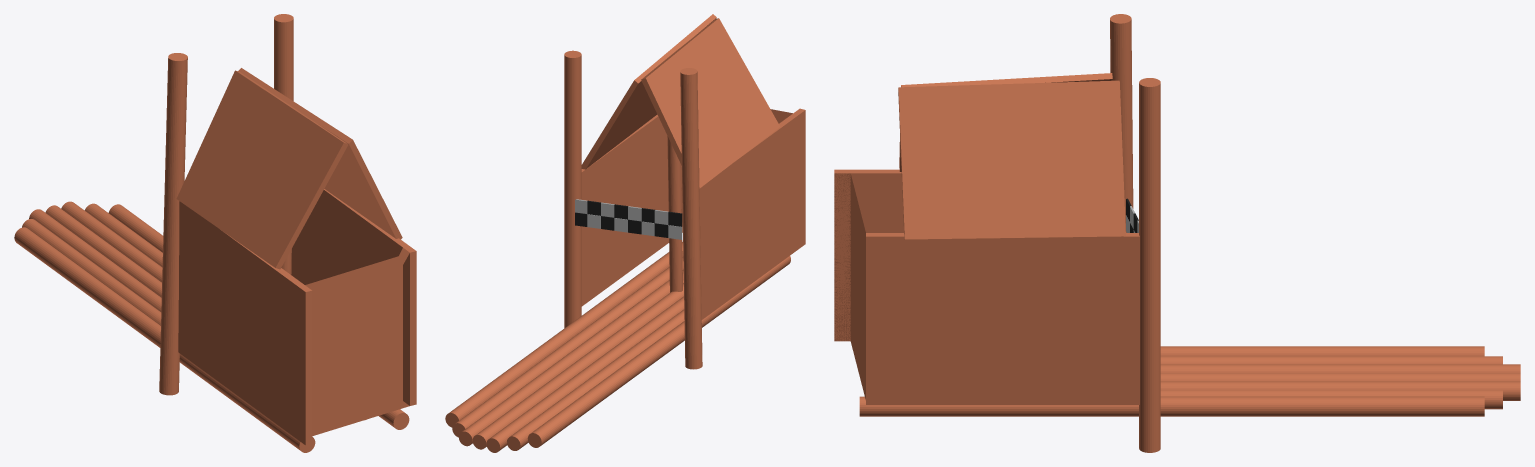
File: FinishStation.fbx
3 views of the same model, side by side, from view 1: azimuth 30°, elevation 25°; view 2: azimuth 150°, elevation 25°; view 3: azimuth 270°, elevation 25° (orthographic). The views are drawn at different scales.
Visible parts, largest first — view 1: Cube.011; view 2: Cube.011; view 3: Cube.011.
Part boxes in pixels (box(x1,y1,x2,y2)): Cube.011: box(14, 14, 416, 452); Cube.011: box(445, 14, 805, 452); Cube.011: box(834, 14, 1520, 452).
Size of the model in its own units: 2319 by 5157 by 8755.
